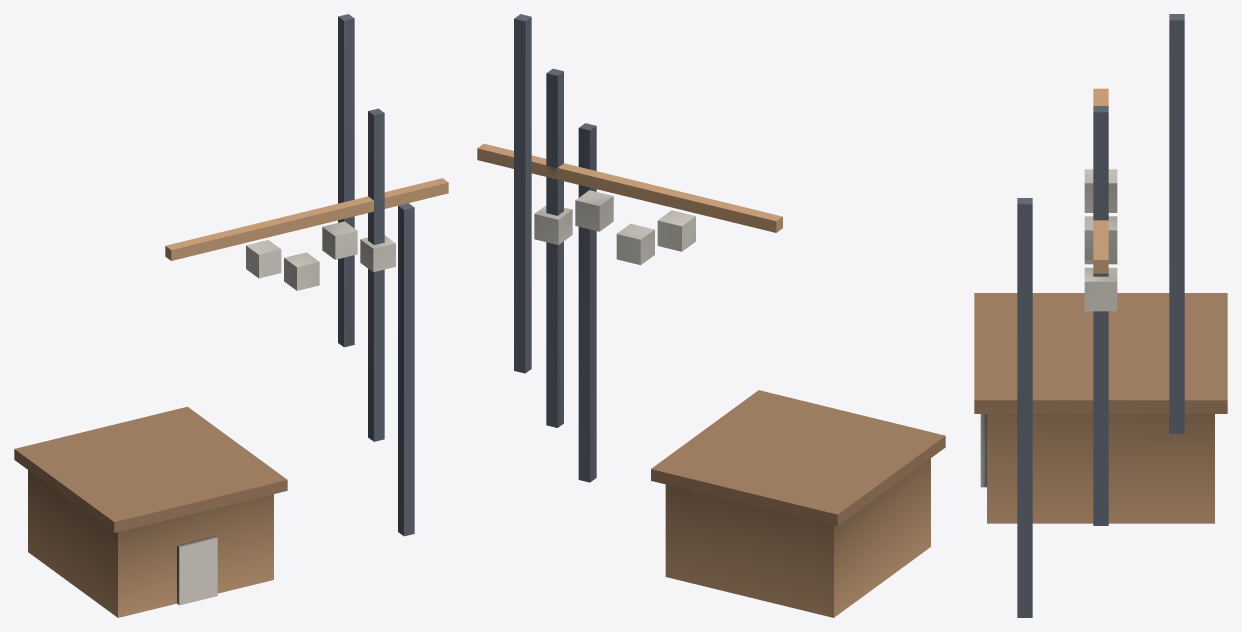
Rendered from cloud_harbour.glb.
The picture shows the model from 3 angles, left to right: view 1: azimuth 30°, elevation 25°; view 2: azimuth 150°, elevation 25°; view 3: azimuth 270°, elevation 25°; orthographic projection. The views are drawn at different scales.
Visible parts, largest first — view 1: cloud_harbour; view 2: cloud_harbour; view 3: cloud_harbour.
Boxes of the visible parts, left/top/right/bottom form: cloud_harbour: left=14, top=14, right=448, bottom=617; cloud_harbour: left=477, top=14, right=945, bottom=617; cloud_harbour: left=974, top=14, right=1227, bottom=617.
Bounding box in the file's own units: 22 × 26 × 10.
